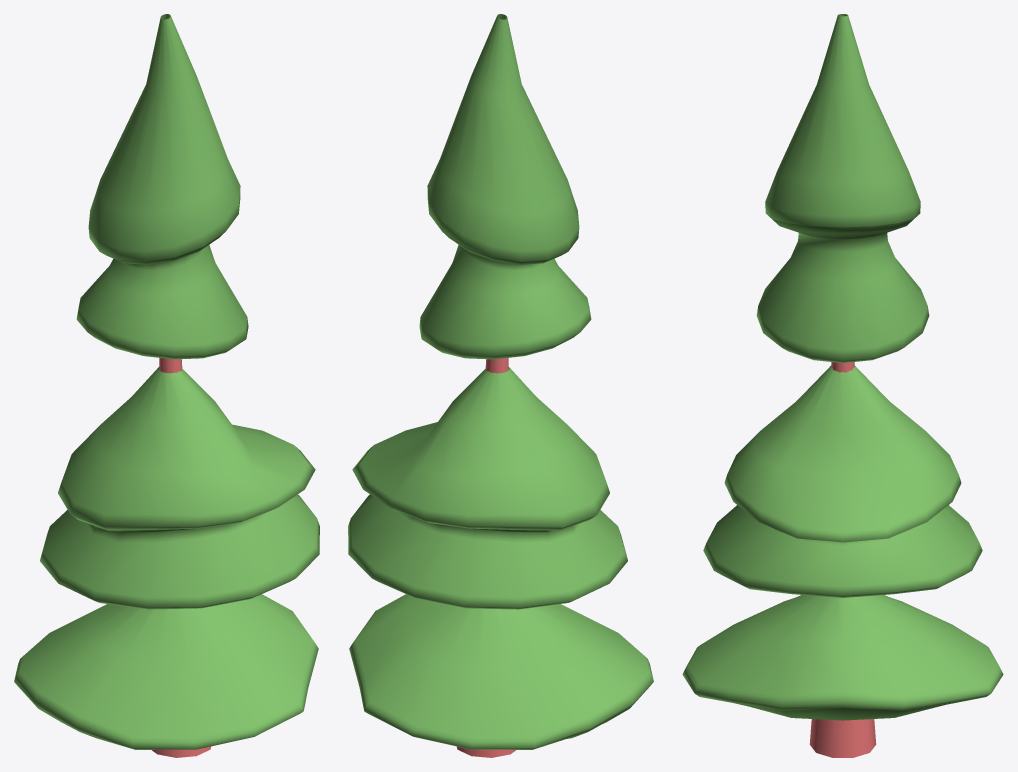
Rendered from COM_VEGETACION_ARBOLES01.fbx.
3 views of the same model, side by side, from view 1: azimuth 30°, elevation 25°; view 2: azimuth 150°, elevation 25°; view 3: azimuth 270°, elevation 25° (orthographic).
Parts seen in each view (by area): view 1: MOR_TEP_VEGETACION_ARBOL_02_LOD0; view 2: MOR_TEP_VEGETACION_ARBOL_02_LOD0; view 3: MOR_TEP_VEGETACION_ARBOL_02_LOD0.
Part boxes in pixels (x1,y1,x2,y2): MOR_TEP_VEGETACION_ARBOL_02_LOD0: (14, 14, 319, 757); MOR_TEP_VEGETACION_ARBOL_02_LOD0: (348, 14, 653, 757); MOR_TEP_VEGETACION_ARBOL_02_LOD0: (682, 14, 1003, 757).
Size of what is drawn, in the model's own units: 175 by 456 by 183.
